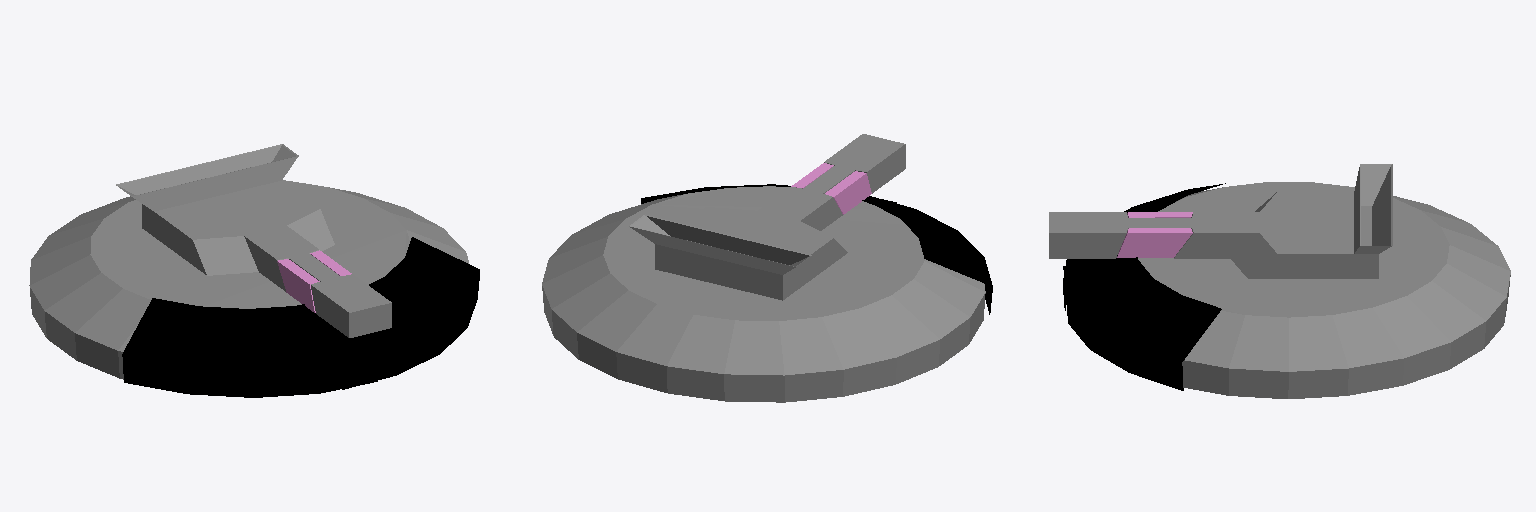
The model's file is StorageBoss.obj.
3 views of the same model, side by side, from view 1: azimuth 30°, elevation 25°; view 2: azimuth 150°, elevation 25°; view 3: azimuth 270°, elevation 25° (orthographic).
Parts seen in each view (by area): view 1: Cylinder001, Box001, Cylinder004, Cylinder003, Box003; view 2: Cylinder001, Box001, Cylinder004, Box003; view 3: Cylinder001, Box001, Cylinder003, Box002, Cylinder004.
Boxes of the visible parts, x1=… form: Cylinder001: x1=29, y1=180, x2=468, y2=379; Box001: x1=116, y1=144, x2=391, y2=337; Cylinder004: x1=122, y1=298, x2=378, y2=397; Cylinder003: x1=320, y1=237, x2=479, y2=389; Box003: x1=277, y1=259, x2=319, y2=312; Cylinder001: x1=542, y1=186, x2=985, y2=402; Box001: x1=629, y1=134, x2=905, y2=300; Cylinder004: x1=862, y1=196, x2=992, y2=314; Box003: x1=825, y1=171, x2=871, y2=214; Cylinder001: x1=1138, y1=182, x2=1510, y2=398; Box001: x1=1049, y1=164, x2=1392, y2=278; Cylinder003: x1=1063, y1=257, x2=1221, y2=390; Box002: x1=1117, y1=228, x2=1192, y2=257; Cylinder004: x1=1063, y1=183, x2=1225, y2=310.
Bounding box in the file's own units: 78.1 × 19.7 × 81.43.